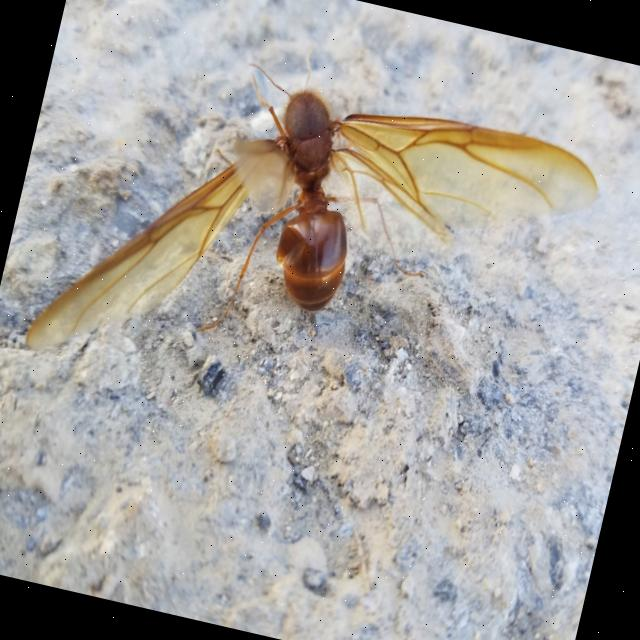Alive-Male-Alate: (22, 1, 616, 467)
